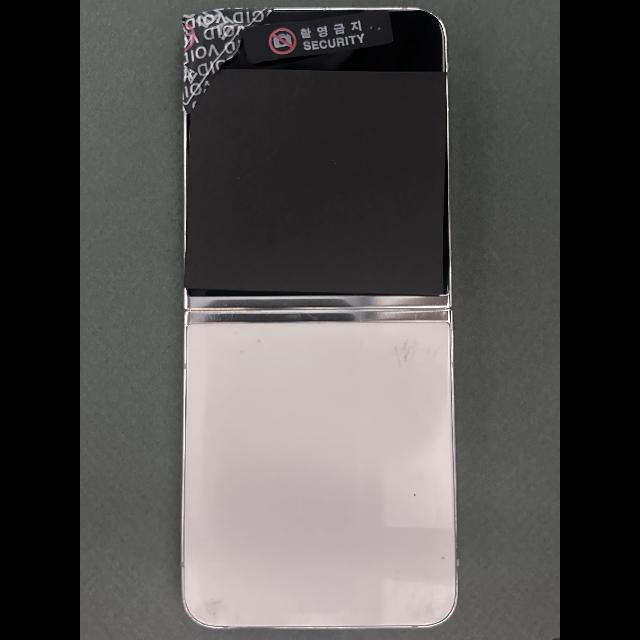phone: (181, 6, 458, 629)
sticker: (181, 8, 274, 115), (243, 10, 394, 66)
